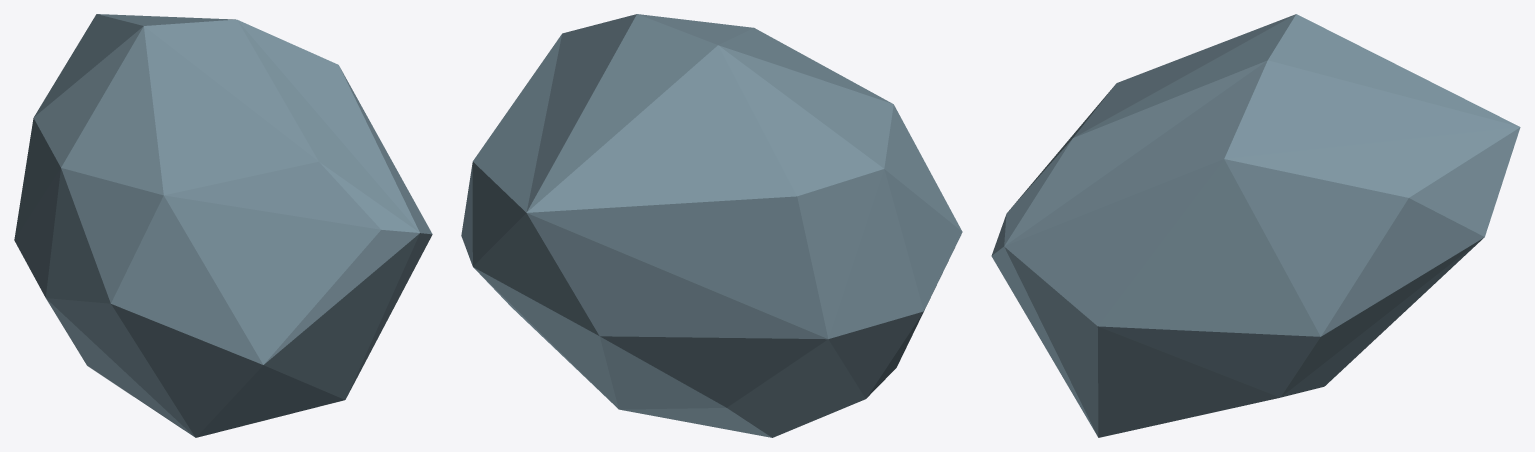
File: Rock3.fbx
3 renders of one model, left to right at view 1: azimuth 30°, elevation 25°; view 2: azimuth 150°, elevation 25°; view 3: azimuth 270°, elevation 25°, orthographic. The views are drawn at different scales.
Visible parts, largest first — view 1: Rock3; view 2: Rock3; view 3: Rock3.
Part boxes in pixels (bbox=[...]): Rock3: bbox=[14, 14, 432, 437]; Rock3: bbox=[461, 14, 962, 437]; Rock3: bbox=[991, 14, 1520, 437].
Size of the model in its own units: 52.75 by 51.61 by 66.22.
